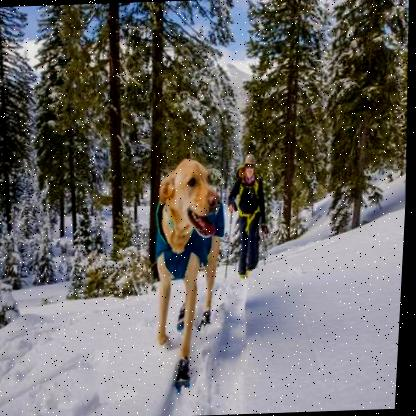dog: (136, 156, 234, 398)
person: (217, 148, 278, 288)
